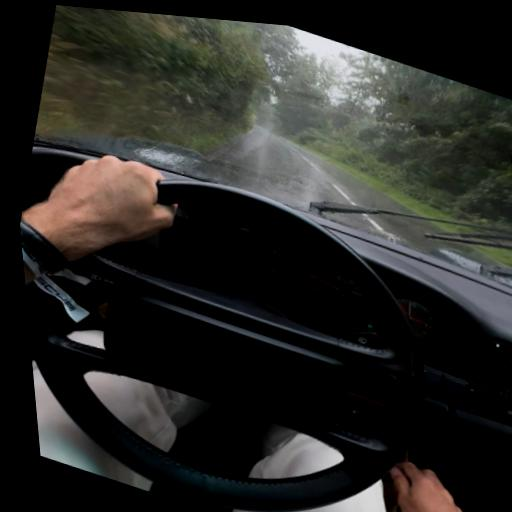Hands-on-the-Wheel: (17, 104, 243, 308)
